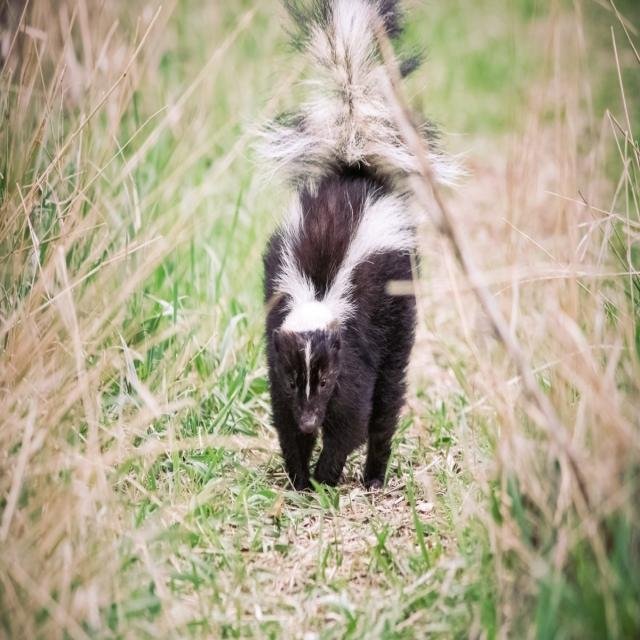Skunk: (261, 0, 431, 522)
